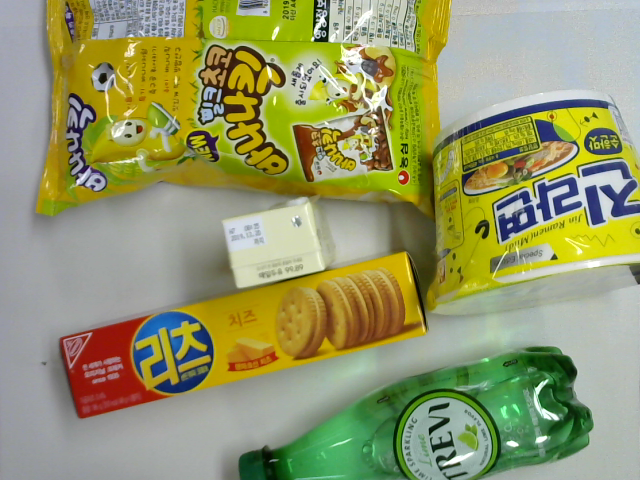99.89_Soymilk: (220, 192, 338, 290)
Banana_Kick: (32, 1, 454, 222)
Jinlamyeon_Mild_Taste_Large_Cup: (424, 85, 640, 319)
Ritz_Sand_Cracker: (57, 246, 433, 422)
Treviraim_500ml: (235, 340, 594, 480)
